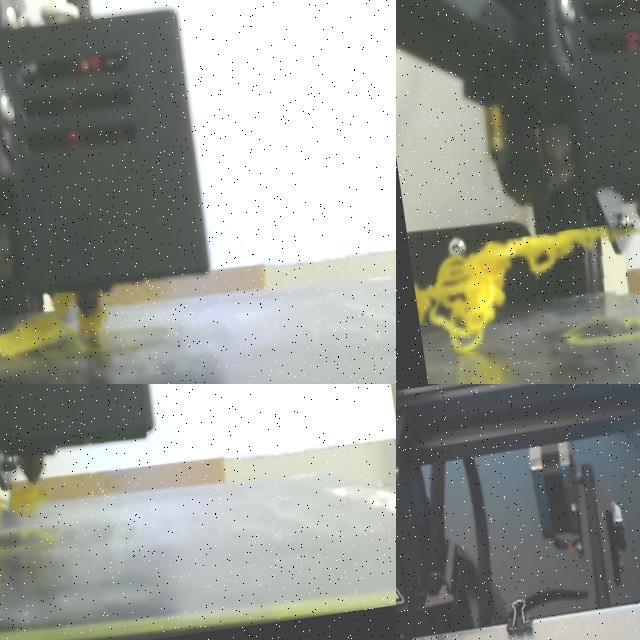spaghetti: (414, 226, 611, 352), (0, 290, 105, 359), (10, 483, 45, 515)
